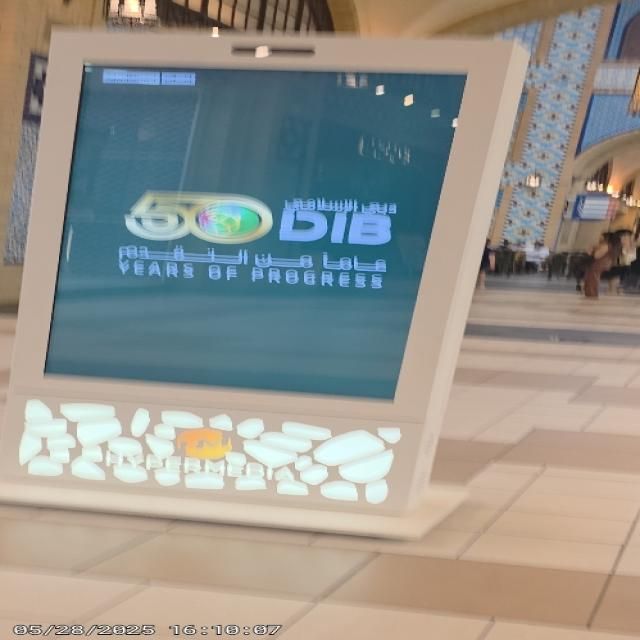mupi: (5, 24, 522, 512)
